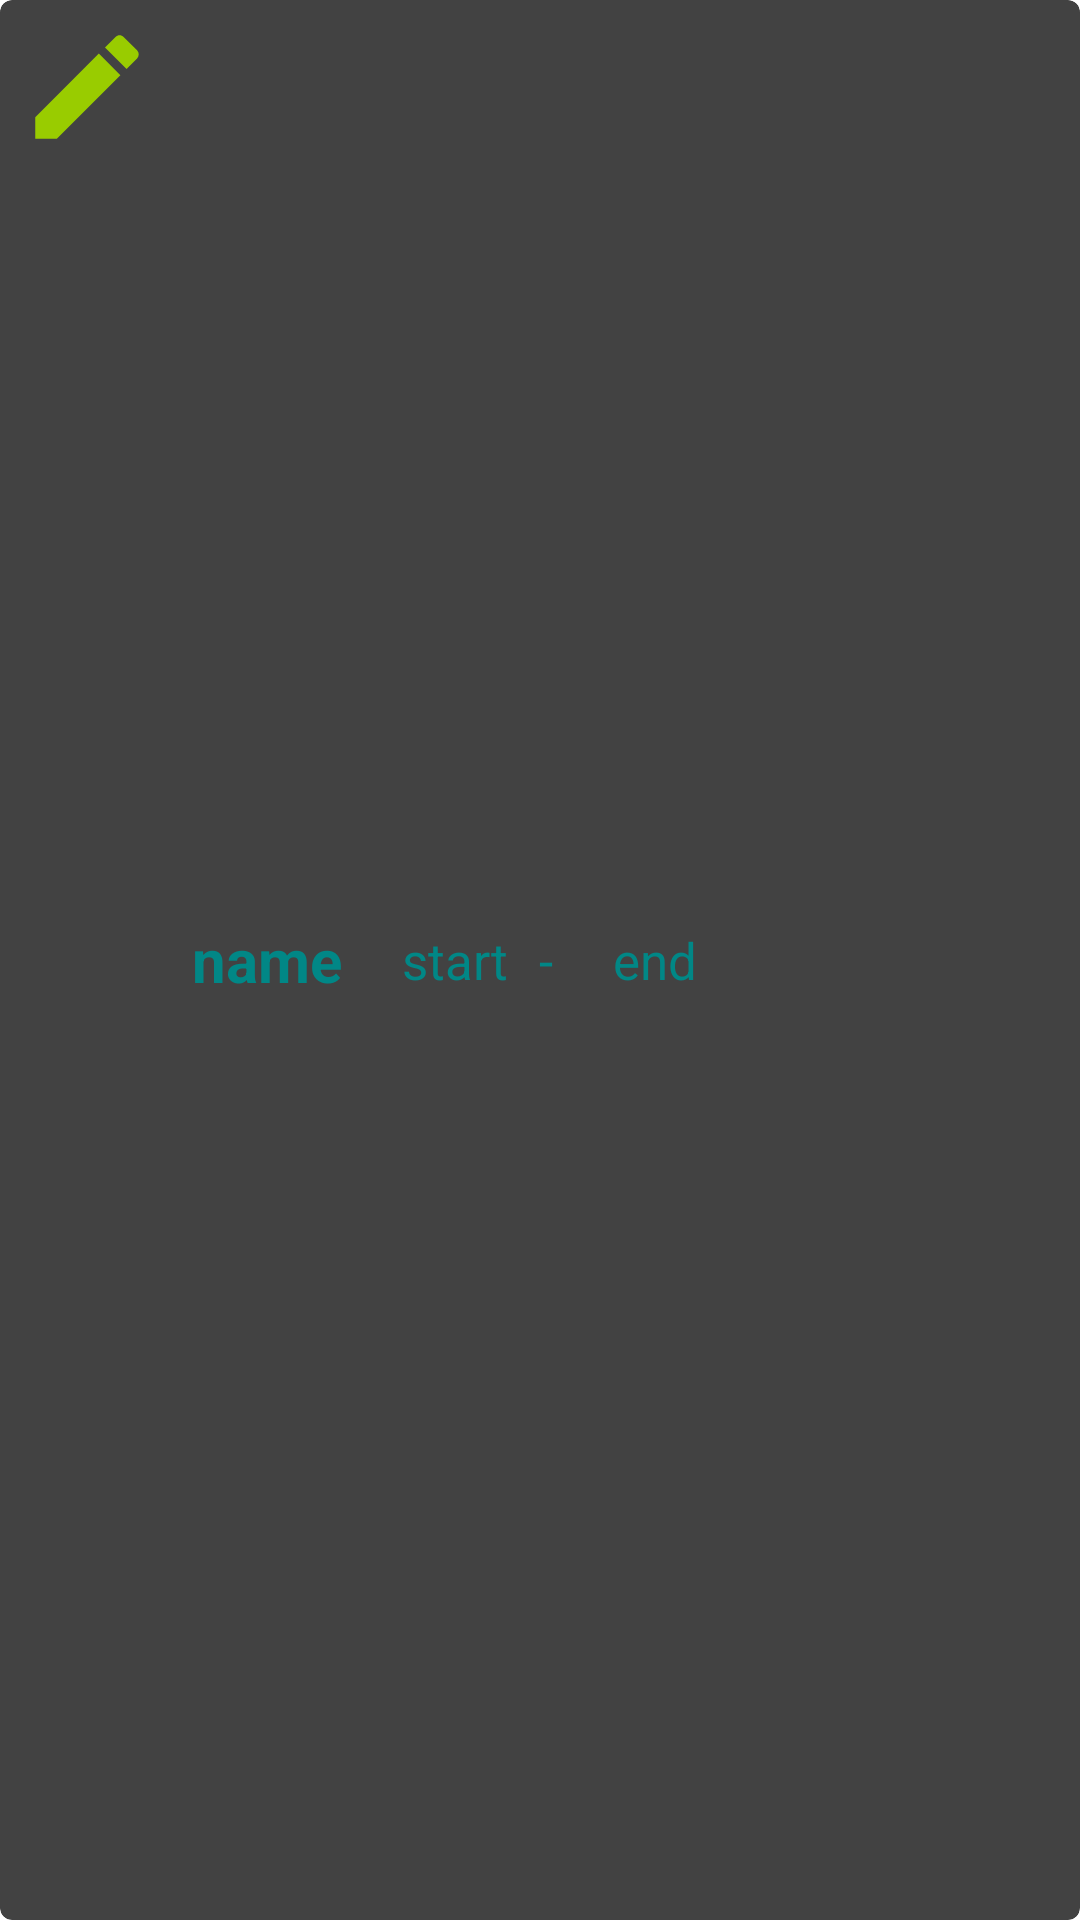

Point at icon controls on the screen. Image size 1080x1920, points as (x,y).
edit: (87,87)
